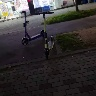beam: (15, 9, 47, 47)
gcooter: (34, 10, 58, 59)
